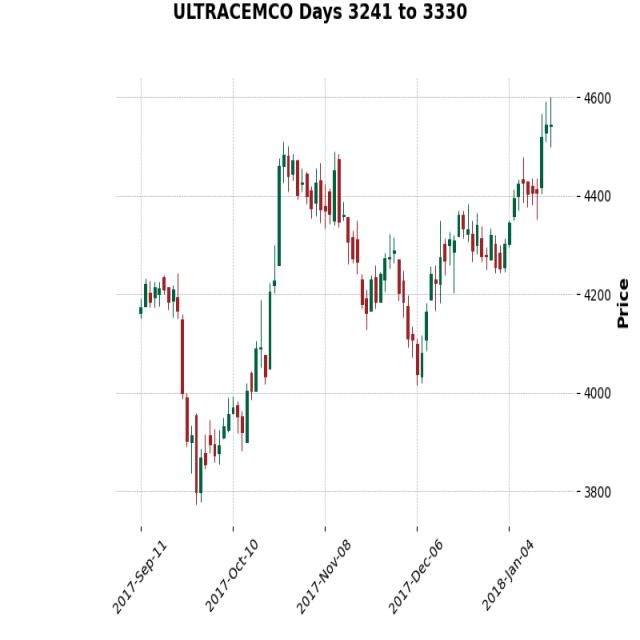Inverse Head and Shoulder: (341, 212, 519, 383)
